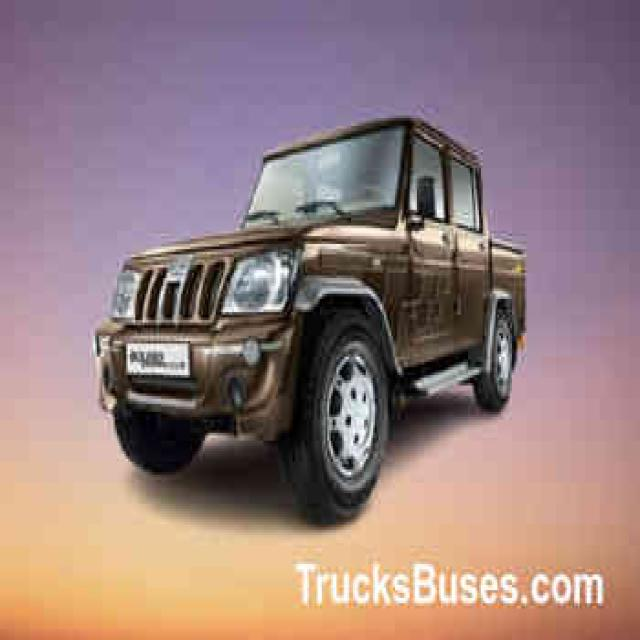light_vehicle: (98, 118, 533, 498)
